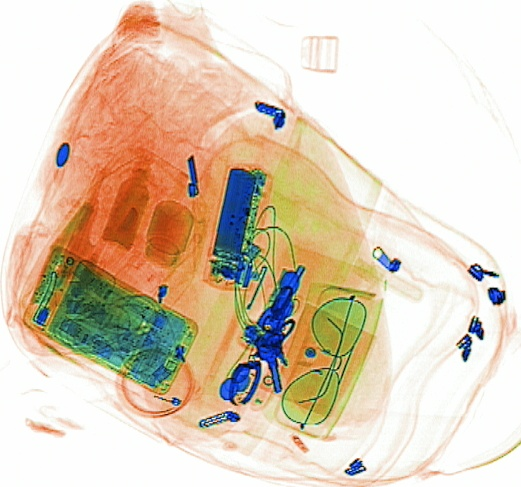powerbank: (201, 159, 271, 292)
